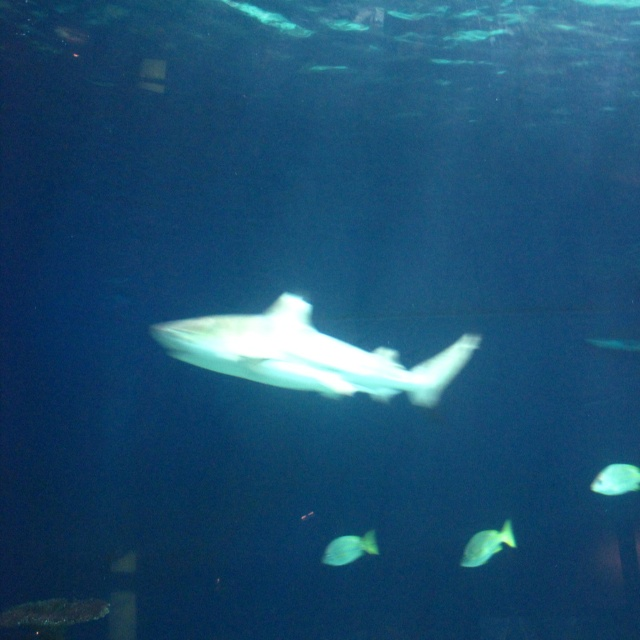Shark: (148, 291, 482, 409)
